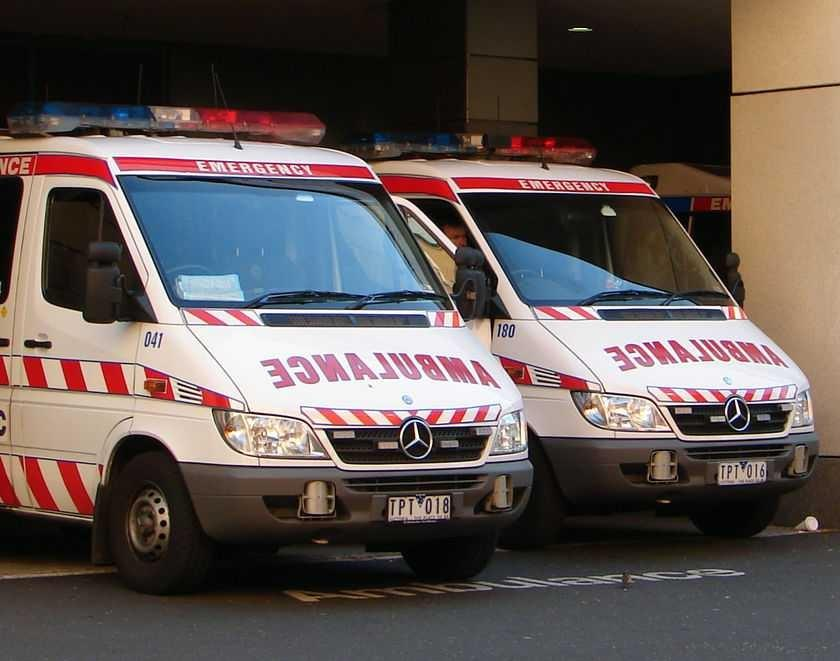car: (0, 99, 534, 595), (342, 129, 819, 548)
